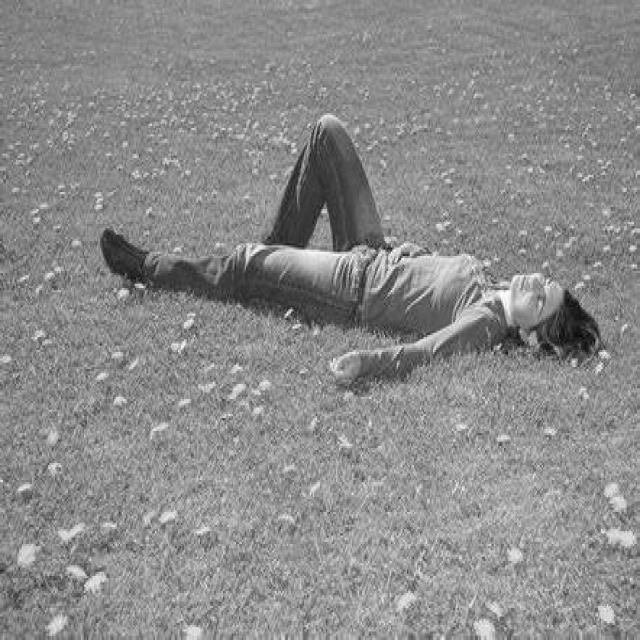lie: (97, 201, 594, 396)
